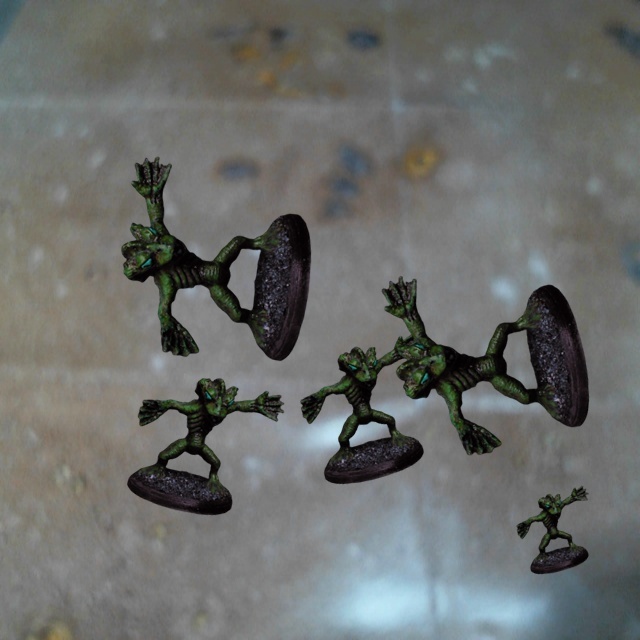pieza_juego: (121, 157, 310, 360), (382, 276, 588, 454), (127, 378, 283, 514), (300, 333, 423, 483), (516, 486, 588, 573)
